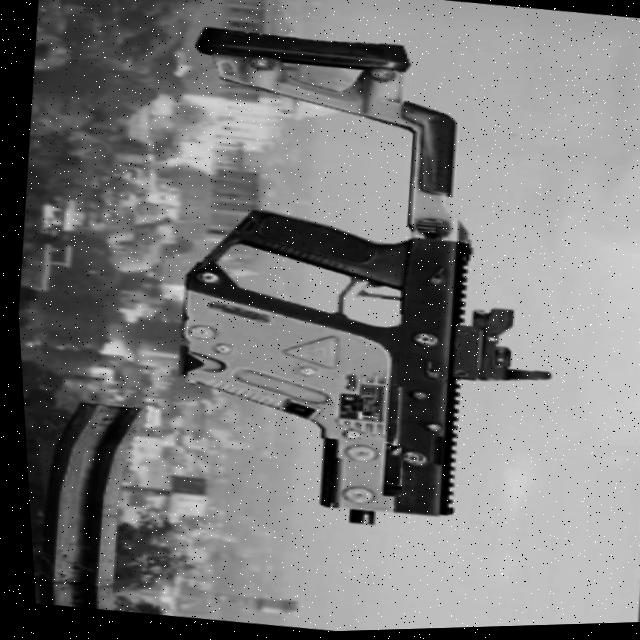firearm: (140, 17, 592, 552)
